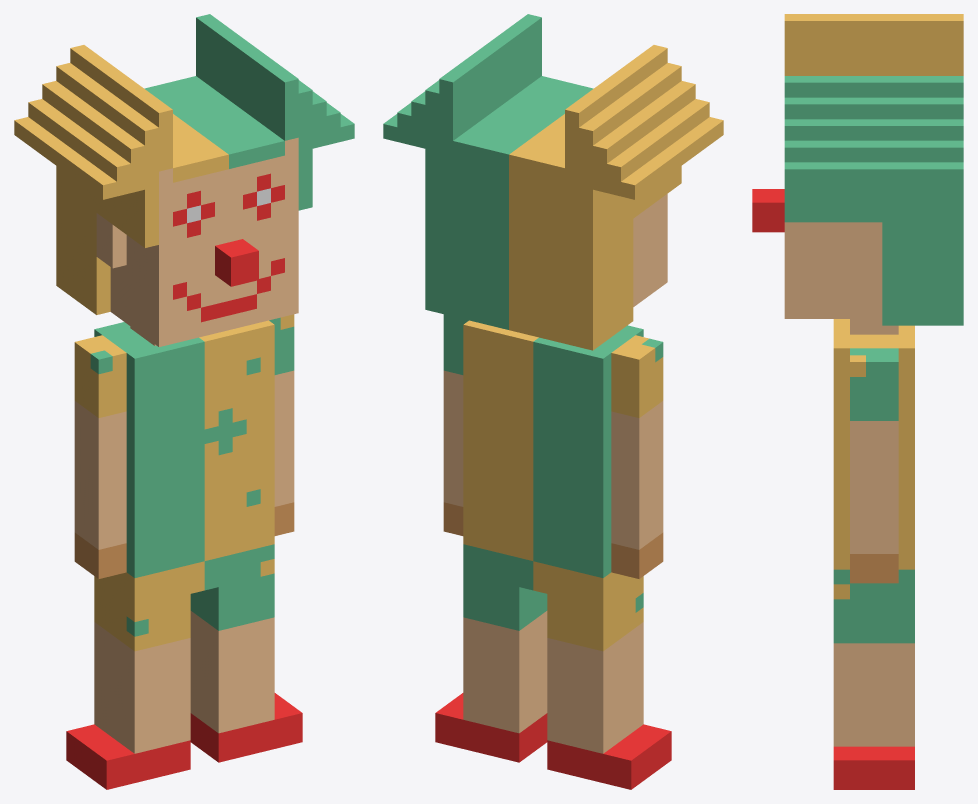
The model's file is clown.obj.
The picture shows the model from 3 angles, left to right: view 1: azimuth 30°, elevation 25°; view 2: azimuth 150°, elevation 25°; view 3: azimuth 270°, elevation 25°; orthographic projection.
Bounding box in the file's own units: 1.8 × 4.7 × 1.3.
1 material, 1 textured.
